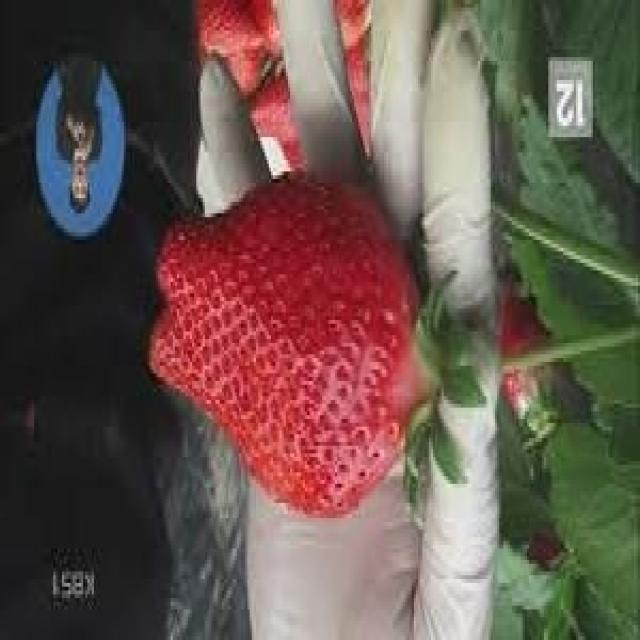mature: (149, 168, 440, 520)
